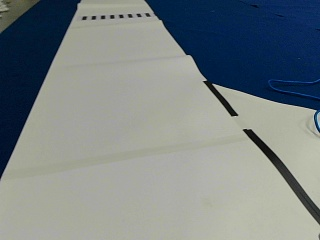crosswalk: (82, 12, 151, 19)
